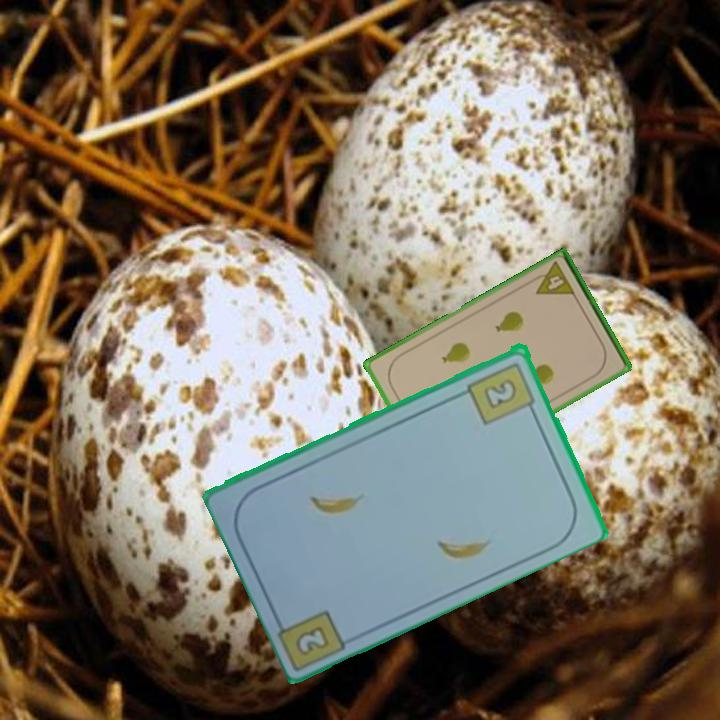2b: (464, 358, 539, 427), (291, 622, 332, 655)
4p: (527, 258, 578, 299)
